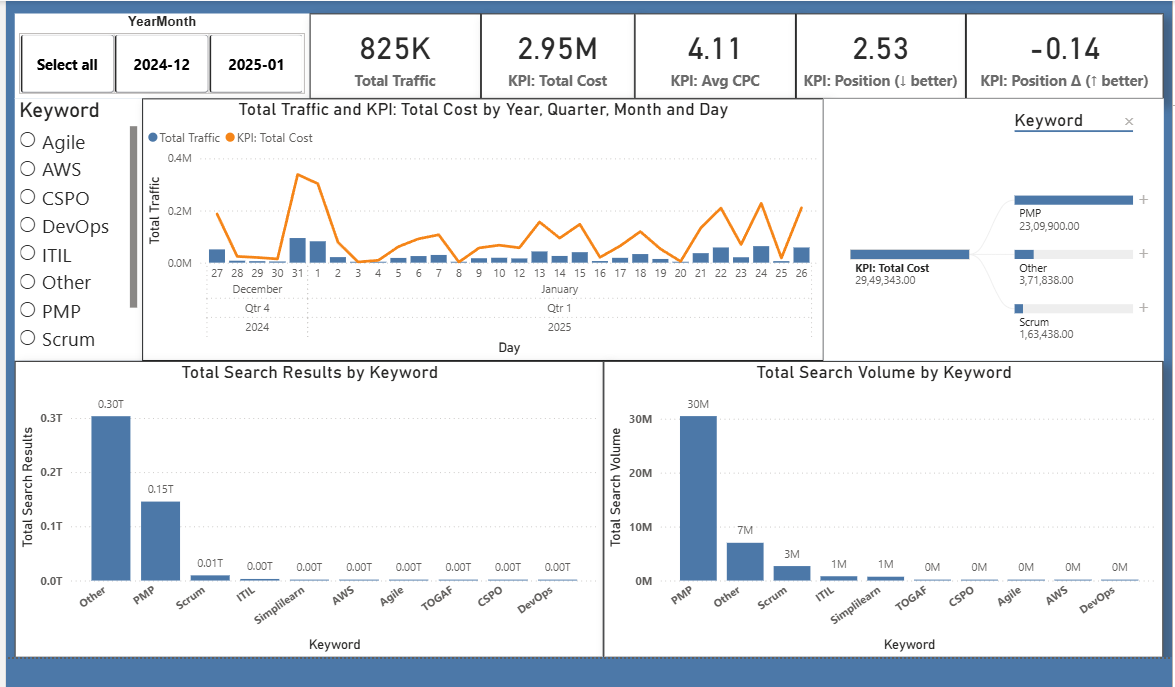

This screenshot's page, from the dashboard's own definition file:
{"tool":"powerbi","page":{"name":"CPC & Volume Insights","canvas":[1280,720],"ordinal":2},"visuals":[{"type":"advancedSlicerVisual","fields":{"Values":["Date.YearMonth"]},"box":[9.6,13.7,323.8,93.3],"z":0},{"type":"listSlicer","fields":{"Values":["internshipproject_trafficdata keyword_dimtable.Keyword"]},"box":[9.6,107,140,288.2],"z":1000},{"type":"card","fields":{"Values":["Aggregations.Total Traffic"]},"box":[333.4,13.7,188,93.3],"z":2000},{"type":"card","fields":{"Values":["Aggregations.KPI: Total Cost"]},"box":[521.4,13.7,168.8,93.3],"z":3000},{"type":"card","fields":{"Values":["Aggregations.KPI: Avg CPC"]},"box":[690.2,13.7,177,93.3],"z":4000},{"type":"card","fields":{"Values":["Aggregations.KPI: Position (↓ better)"]},"box":[867.2,13.7,186.6,93.3],"z":5000},{"type":"card","fields":{"Values":["Aggregations.KPI: Position Δ (↑ better)"]},"box":[1053.9,13.7,216.8,93.3],"z":6000},{"type":"lineClusteredColumnComboChart","fields":{"Category":["Date.Date.Variation.Date Hierarchy.Year","Date.Date.Variation.Date Hierarchy.Quarter","Date.Date.Variation.Date Hierarchy.Month","Date.Date.Variation.Date Hierarchy.Day"],"Y":["Aggregations.Total Traffic"],"Y2":["Aggregations.KPI: Total Cost"]},"box":[149.6,107,747.9,288.2],"z":7000},{"type":"columnChart","fields":{"Category":["internshipproject_trafficdata keyword_dimtable.Keyword"],"Y":["Aggregations.Total Search Results"]},"box":[9.6,395.2,646.3,325.2],"z":9000},{"type":"clusteredColumnChart","fields":{"Y":["Aggregations.Total Search Volume"],"Category":["internshipproject_trafficdata keyword_dimtable.Keyword"]},"box":[655.9,395.2,614.8,325.2],"z":10000},{"type":"decompositionTreeVisual","fields":{"Analyze":["Aggregations.KPI: Total Cost"],"ExplainBy":["internshipproject_trafficdata keyword_dimtable.Keyword","internshipproject_trafficdata adword_maintable.Title","Date.Month"]},"box":[897.4,107,373.2,288.2],"z":10001}]}

Visuals, with their boxes on the page's 1280x720 design canvas (x1, y1, x2, y2). These are canvas units, not pixel positions in the 1175x687 screenshot, which may show the page scaled, cropped or inside an application window:
advancedSlicerVisual - Date.YearMonth: l=10, t=14, r=333, b=107
listSlicer - internshipproject_trafficdata keyword_dimtable.Keyword: l=10, t=107, r=150, b=395
card - Aggregations.Total Traffic: l=333, t=14, r=521, b=107
card - Aggregations.KPI: Total Cost: l=521, t=14, r=690, b=107
card - Aggregations.KPI: Avg CPC: l=690, t=14, r=867, b=107
card - Aggregations.KPI: Position (↓ better): l=867, t=14, r=1054, b=107
card - Aggregations.KPI: Position Δ (↑ better): l=1054, t=14, r=1271, b=107
lineClusteredColumnComboChart - Date.Date.Variation.Date Hierarchy.Year x Date.Date.Variation.Date Hierarchy.Quarter: l=150, t=107, r=898, b=395
columnChart - internshipproject_trafficdata keyword_dimtable.Keyword x Aggregations.Total Search Results: l=10, t=395, r=656, b=720
clusteredColumnChart - Aggregations.Total Search Volume x internshipproject_trafficdata keyword_dimtable.Keyword: l=656, t=395, r=1271, b=720
decompositionTreeVisual - Aggregations.KPI: Total Cost x internshipproject_trafficdata keyword_dimtable.Keyword: l=897, t=107, r=1271, b=395
